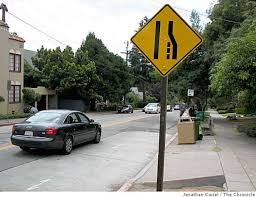laneEnds: (128, 2, 205, 76)
